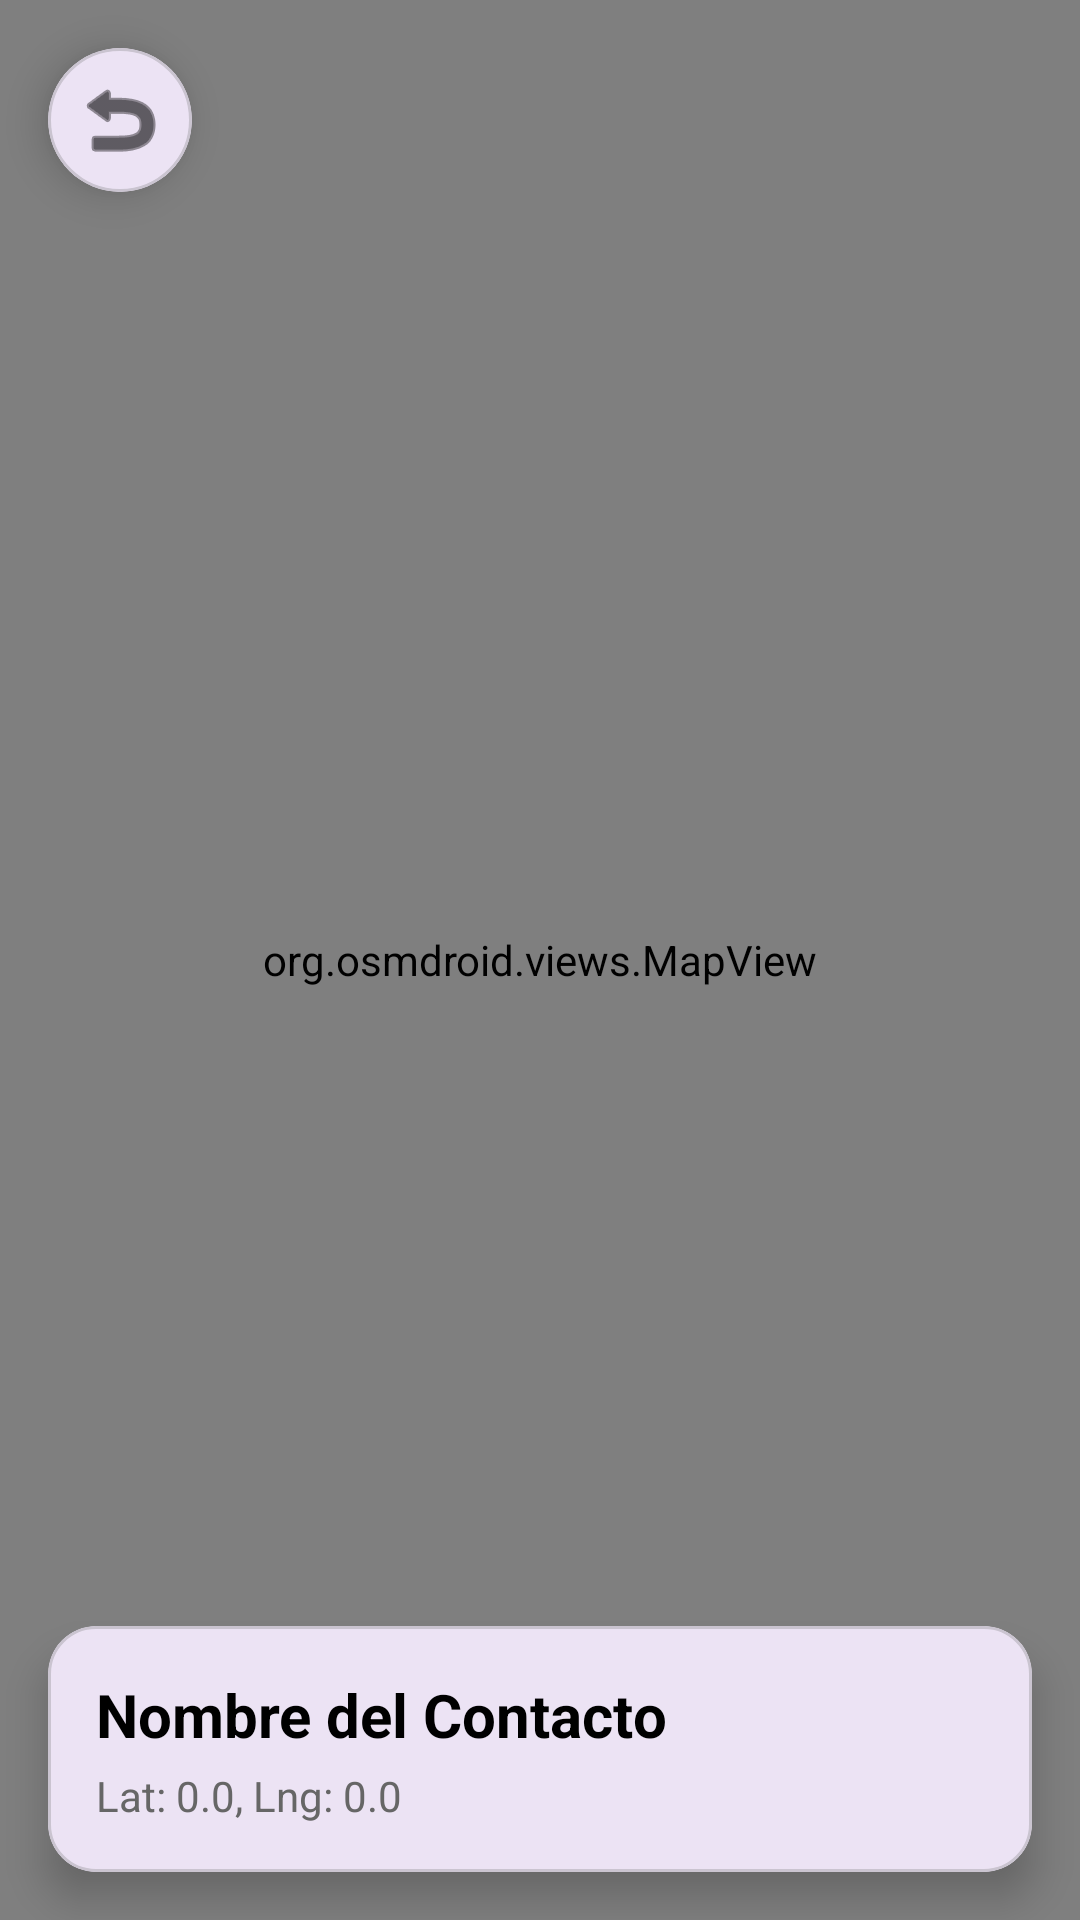

Where to tap for icons on this 1080*1920 app screen, as point (x, y):
revert: point (120, 120)
